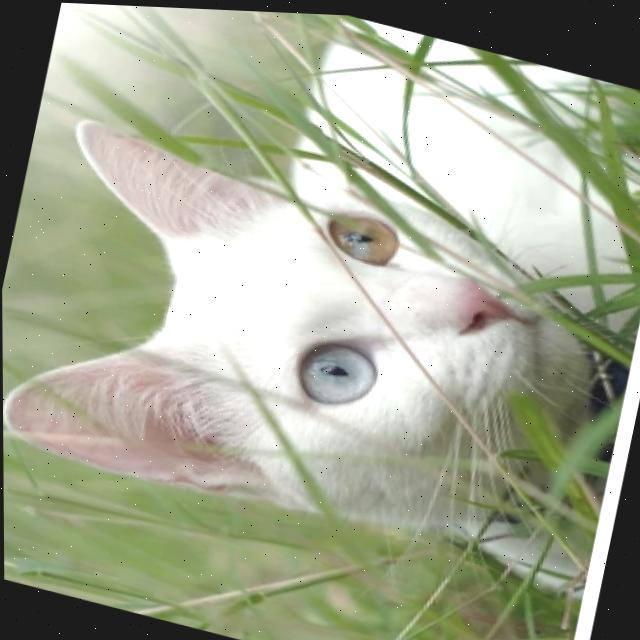Khao Manee: (0, 0, 640, 596)
